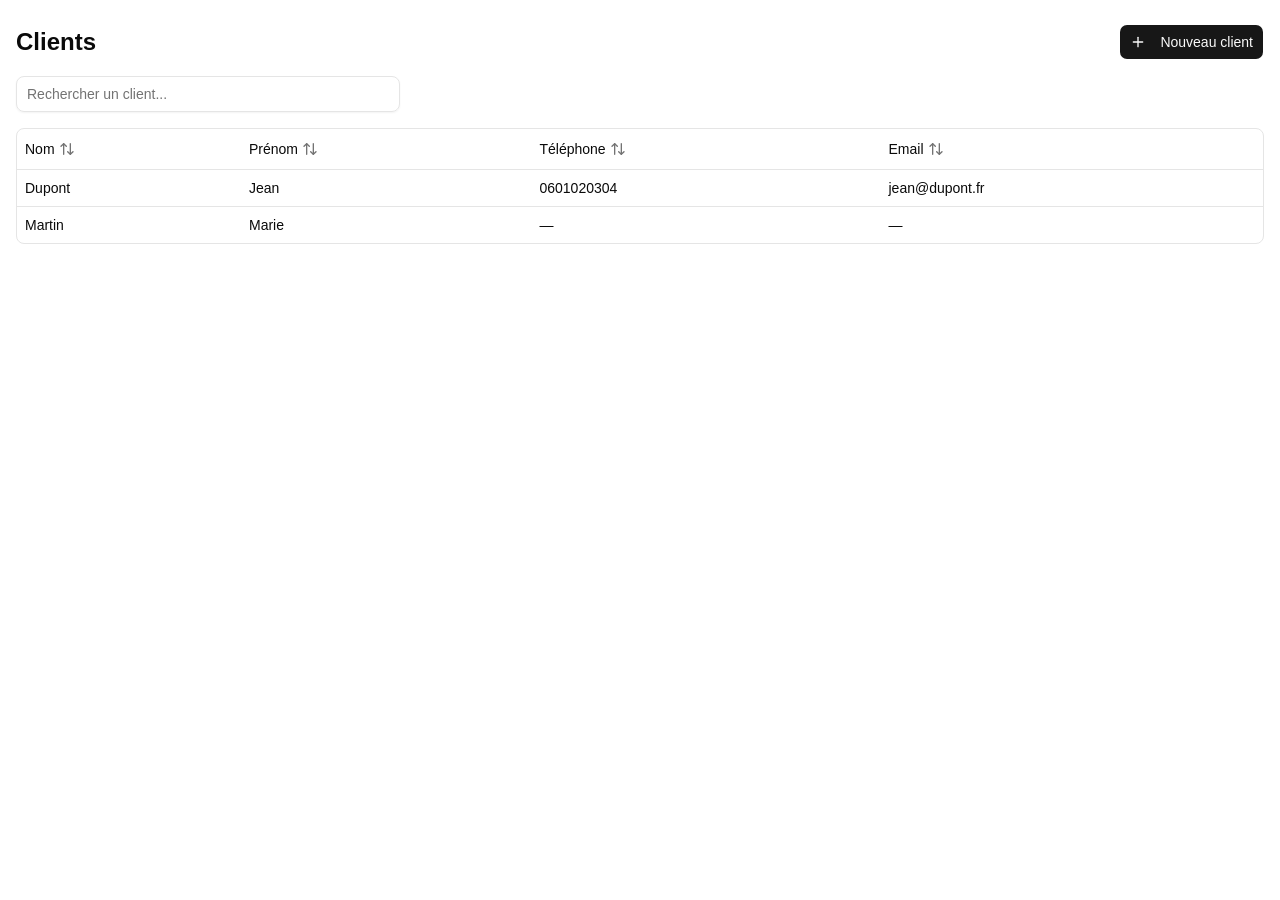
Test: ClientsPage › Desktop — Split View › changer de client met à jour le panneau droit
Click the text "Dupont" at coordinates (48, 188), box [17, 169, 241, 206]
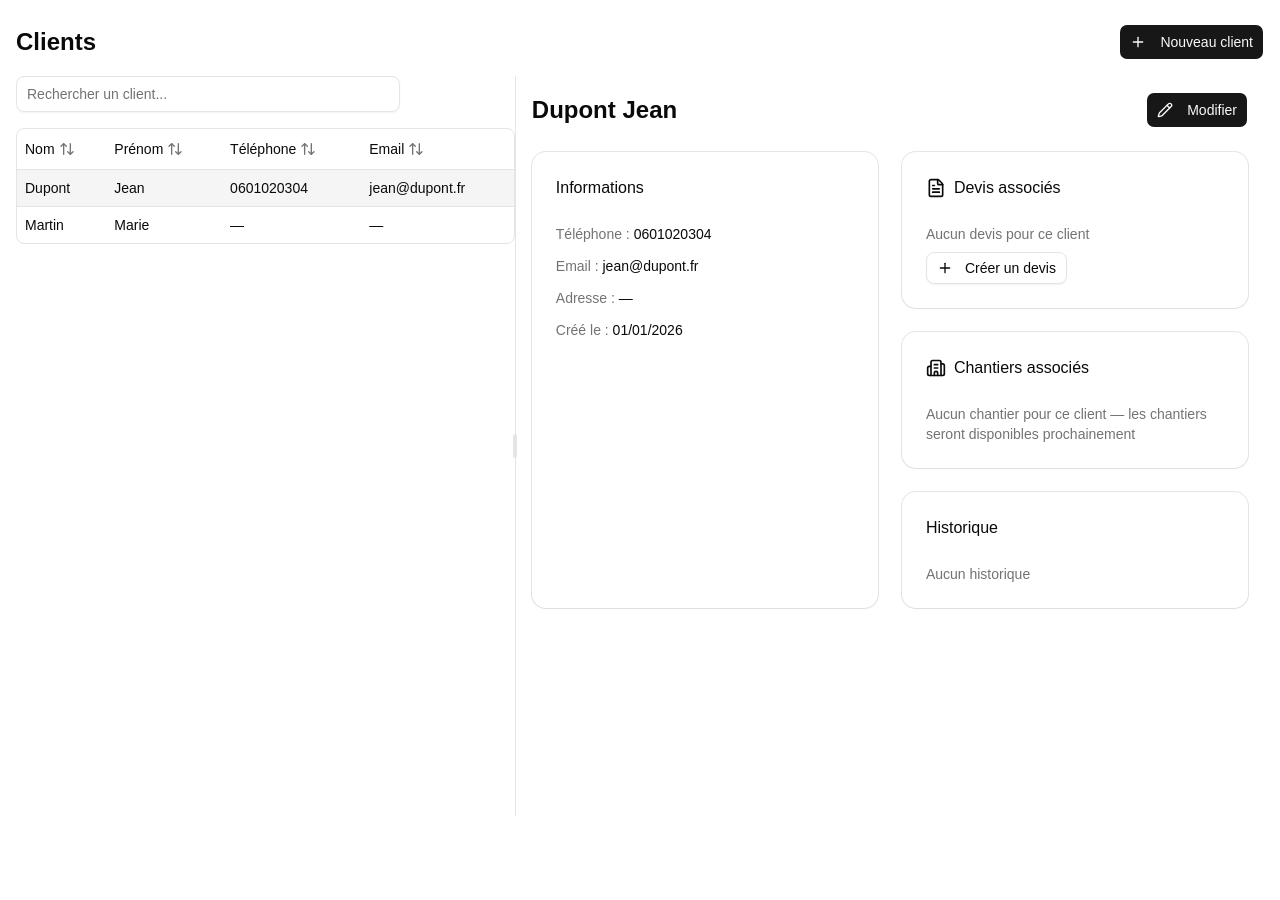
Now the heading "Dupont Jean" is shown, box [532, 94, 677, 126]
Click the text "Martin" at coordinates (62, 224), box [17, 206, 106, 242]
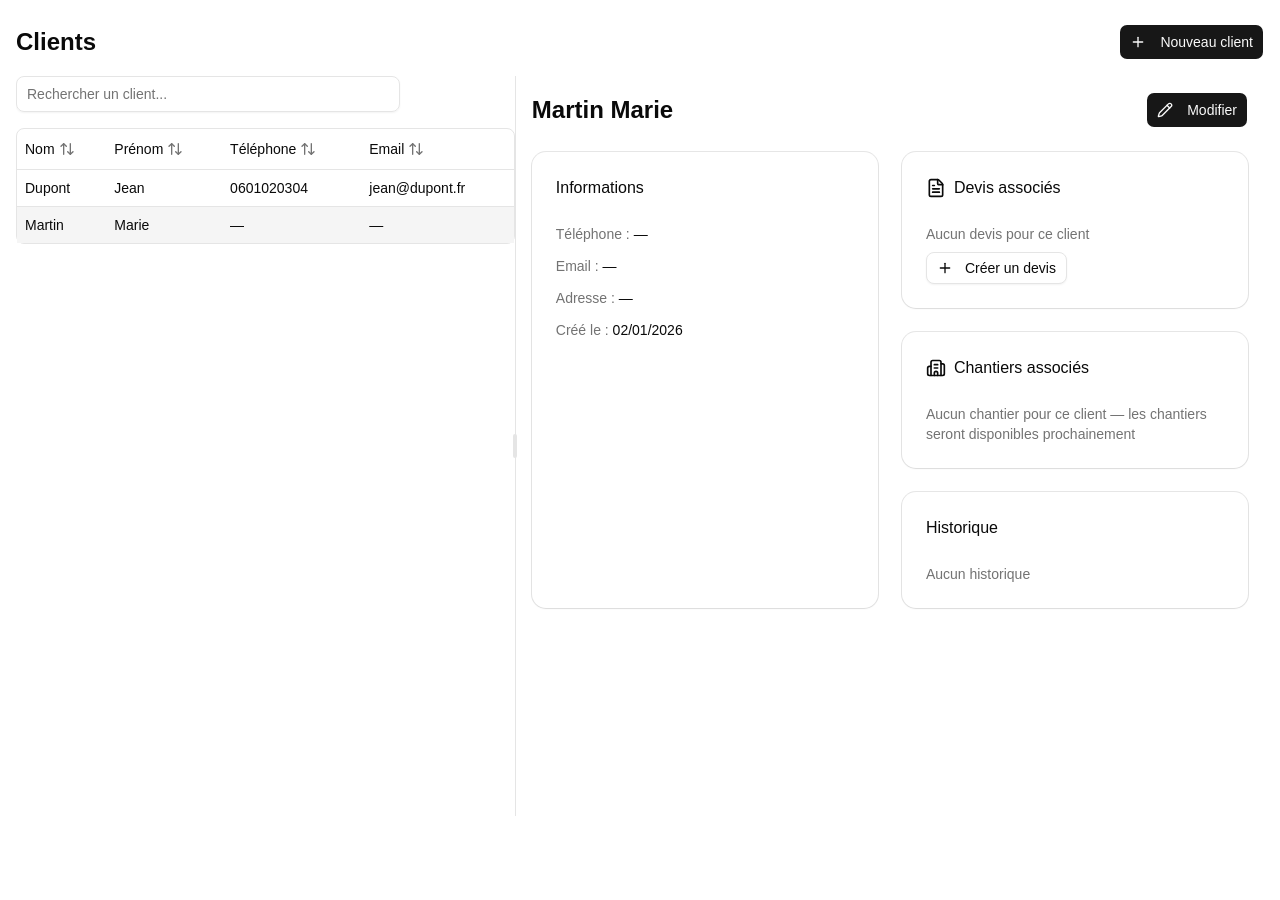
Now the heading "Martin Marie" is shown, box [532, 94, 673, 126]
